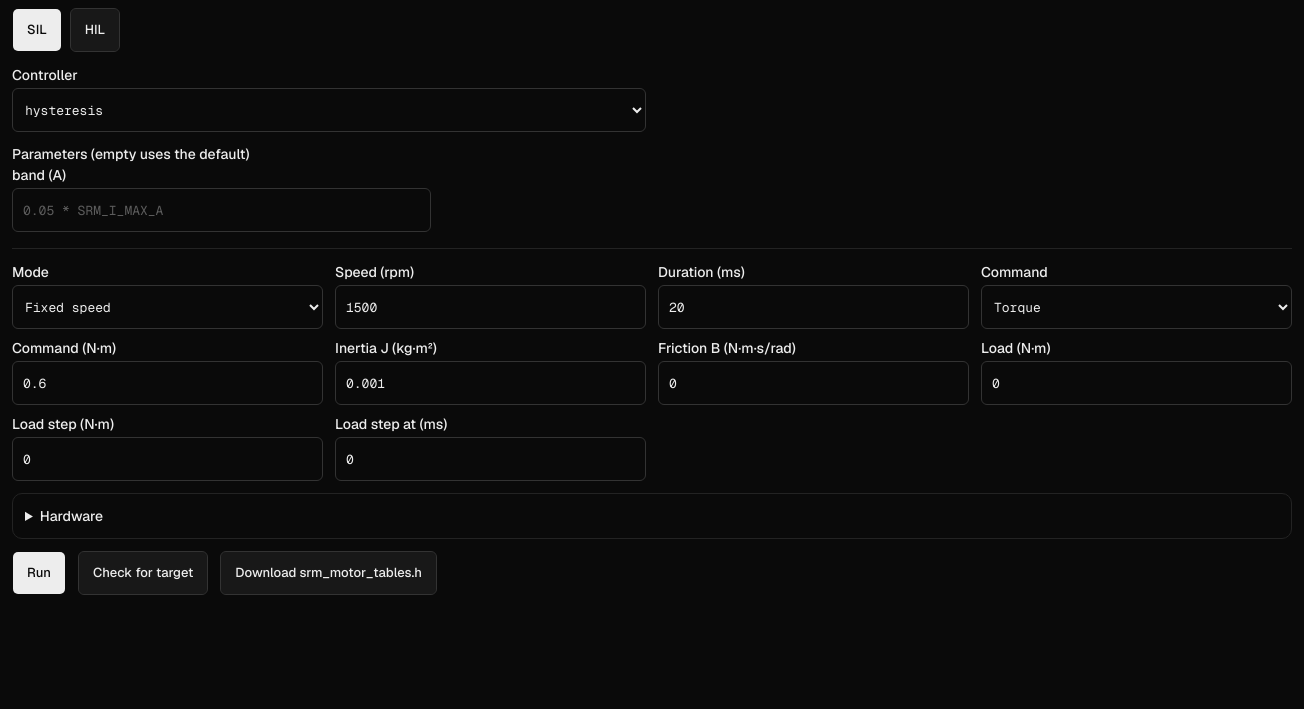
Test: ControlTab › switches to the HIL panel, keeps the controller and scenario, and back to the SIL run controls
Expected: the field with id "ctl-p-band" is shown, [12,188,431,232]
Click the button "HIL" at (95, 30), box [70,8,120,52]
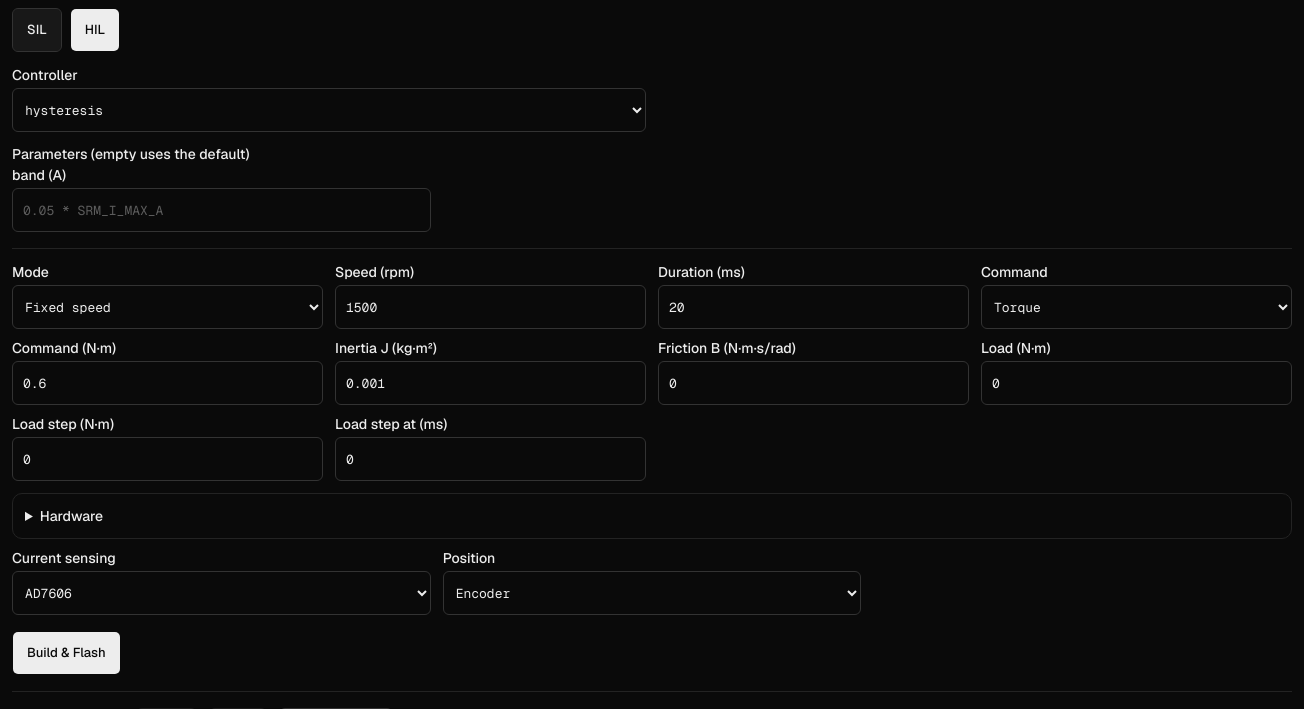
Expected: the dropdown with id "ctl-controller" is shown, [12,88,646,132]
Result: the button "HIL" is pressed at [70,8,120,52]
Click the button "SIL" at (37, 30), box [12,8,62,52]
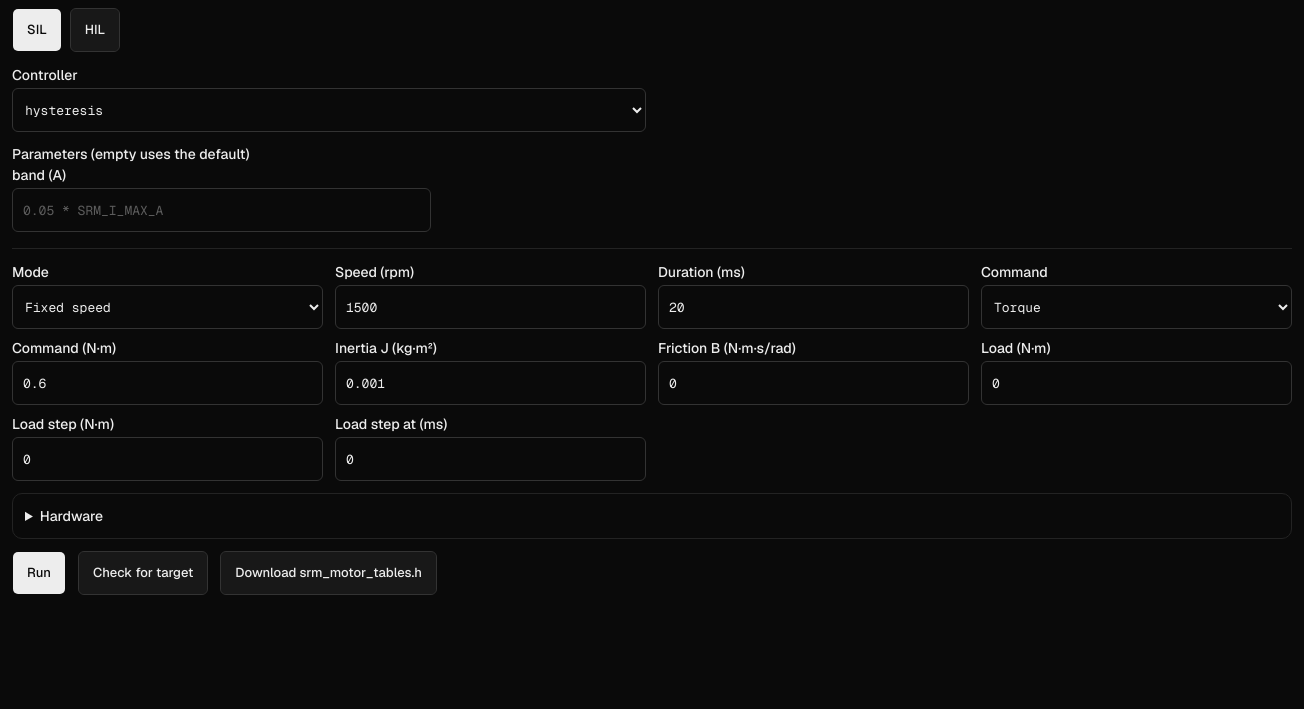
Result: the button "Run" is shown at [12,551,66,595]
